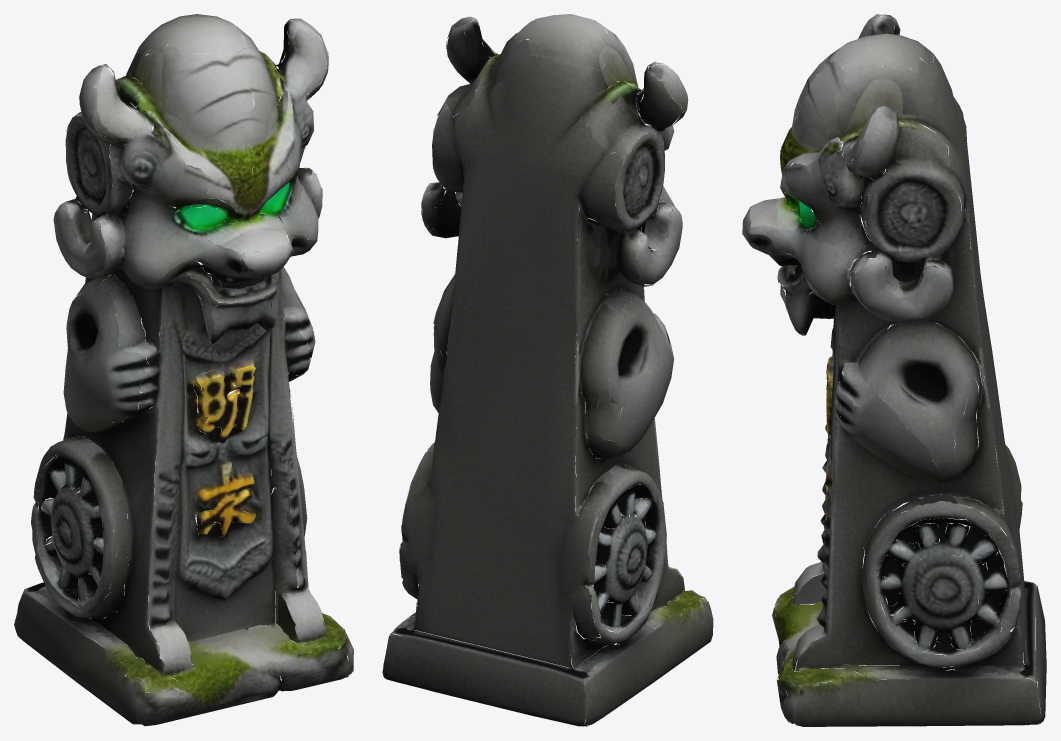
Rendered from ward-totem.glb.
3 views of the same model, side by side, from view 1: azimuth 30°, elevation 25°; view 2: azimuth 150°, elevation 25°; view 3: azimuth 270°, elevation 25° (orthographic). The views are drawn at different scales.
Parts seen in each view (by area): view 1: tmpg2vo8sqy.ply; view 2: tmpg2vo8sqy.ply; view 3: tmpg2vo8sqy.ply.
Part boxes in pixels (x1,y1,x2,y2): tmpg2vo8sqy.ply: [14, 14, 353, 726]; tmpg2vo8sqy.ply: [382, 14, 713, 726]; tmpg2vo8sqy.ply: [742, 14, 1046, 726].
Size of the model in its own units: 0.3868 by 0.9886 by 0.4308.
1 material, 1 textured.
